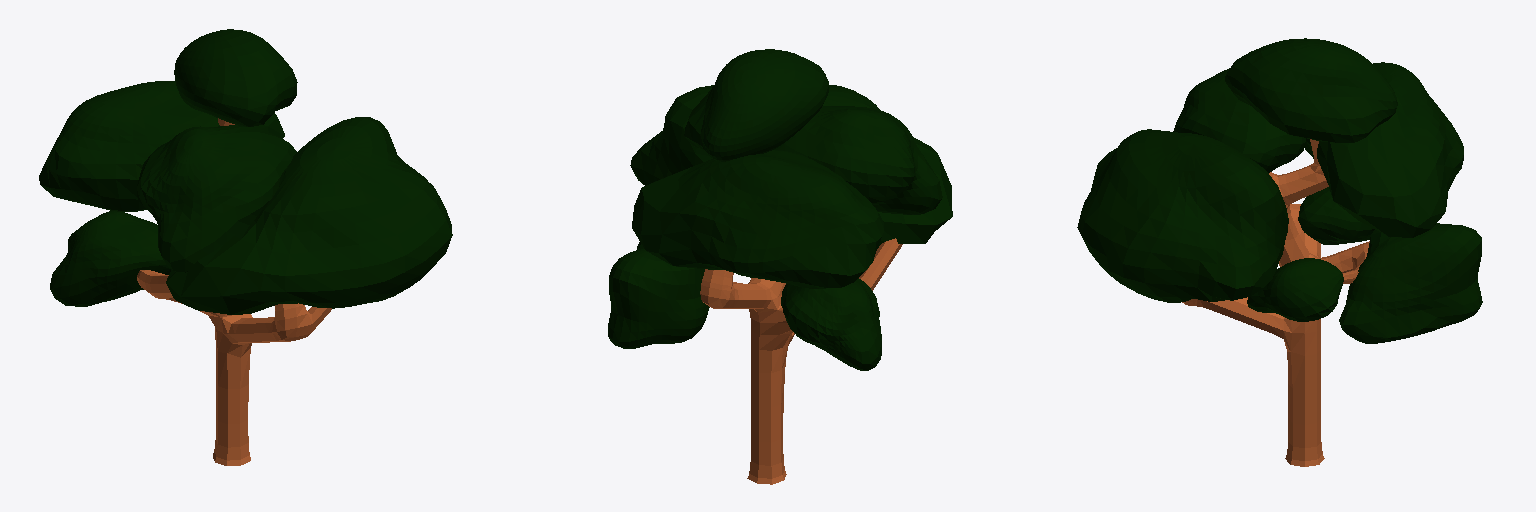
The picture shows the model from 3 angles: view 1: azimuth 30°, elevation 25°; view 2: azimuth 150°, elevation 25°; view 3: azimuth 270°, elevation 25°; orthographic projection.
Parts seen in each view (by area): view 1: Sphere, Sphere.004, Sphere.003, Sphere.002, Cube, Sphere.005; view 2: Sphere.003, Sphere.002, Sphere.004, Cube, Sphere.001, Sphere, Sphere.005; view 3: Sphere, Sphere.003, Sphere.001, Sphere.002, Cube, Sphere.004, Sphere.006, Sphere.005.
Boxes of the visible parts, x1=… form: Sphere: x1=166, y1=117, x2=452, y2=314; Sphere.004: x1=137, y1=125, x2=296, y2=272; Sphere.003: x1=39, y1=81, x2=284, y2=211; Sphere.002: x1=174, y1=29, x2=297, y2=126; Cube: x1=137, y1=118, x2=331, y2=465; Sphere.005: x1=50, y1=211, x2=170, y2=306; Sphere.003: x1=632, y1=150, x2=883, y2=288; Sphere.002: x1=684, y1=49, x2=828, y2=161; Sphere.004: x1=774, y1=106, x2=942, y2=214; Cube: x1=700, y1=238, x2=902, y2=484; Sphere.001: x1=608, y1=248, x2=709, y2=348; Sphere: x1=630, y1=85, x2=952, y2=248; Sphere.005: x1=781, y1=278, x2=881, y2=370; Sphere: x1=1077, y1=129, x2=1288, y2=302; Sphere.003: x1=1305, y1=62, x2=1463, y2=237; Sphere.001: x1=1339, y1=223, x2=1482, y2=343; Sphere.002: x1=1225, y1=38, x2=1397, y2=142; Cube: x1=1182, y1=139, x2=1369, y2=466; Sphere.004: x1=1173, y1=68, x2=1306, y2=172; Sphere.006: x1=1247, y1=258, x2=1343, y2=321; Sphere.005: x1=1298, y1=187, x2=1374, y2=244.
Bounding box in the file's own units: 20.39 × 25.88 × 22.67.
Materials: 2 (1 with a texture image).